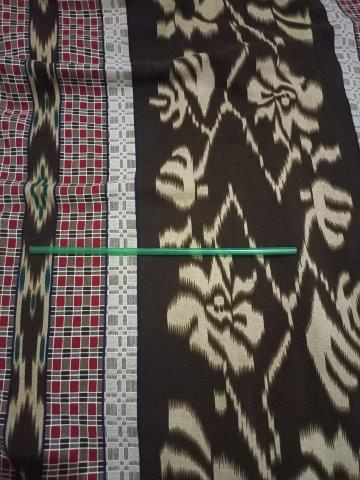sedotan: (29, 246, 297, 255)
